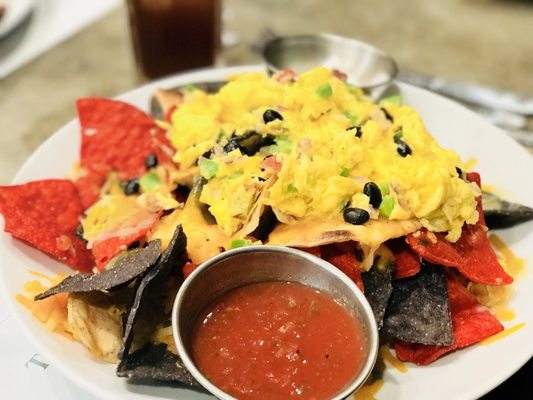pizza: (125, 0, 221, 80)
sandwich: (258, 32, 533, 156)
soup: (1, 95, 188, 298)
sushi: (171, 245, 381, 400)
